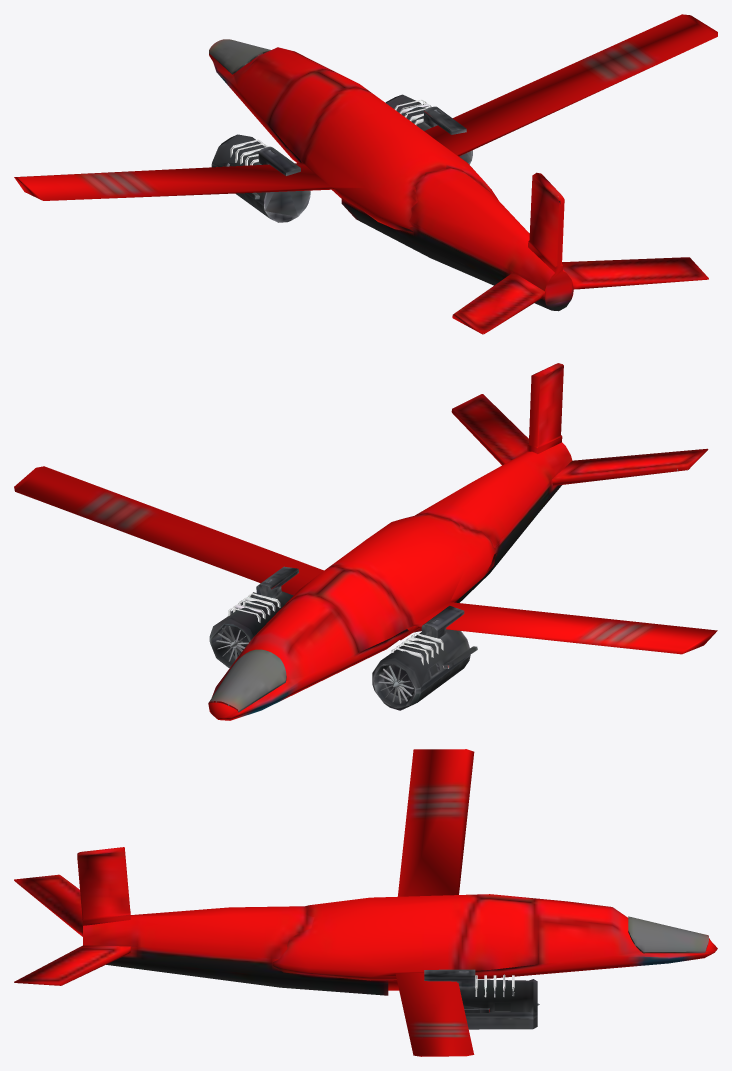
The model's file is private-jet.lod1.glb.
3 views of the same model, one above another, from view 1: azimuth 30°, elevation 25°; view 2: azimuth 150°, elevation 25°; view 3: azimuth 270°, elevation 25° (orthographic). The views are drawn at different scales.
Visible parts, largest first — view 1: Sphere001_Unwrap Texture Checker Material_0; view 2: Sphere001_Unwrap Texture Checker Material_0; view 3: Sphere001_Unwrap Texture Checker Material_0.
Boxes of the visible parts, bbox=[...] form: Sphere001_Unwrap Texture Checker Material_0: bbox=[14, 14, 717, 334]; Sphere001_Unwrap Texture Checker Material_0: bbox=[14, 363, 717, 720]; Sphere001_Unwrap Texture Checker Material_0: bbox=[14, 749, 717, 1056].
Size of the model in its own units: 19.97 by 4.34 by 19.23.
1 material, 1 textured.
